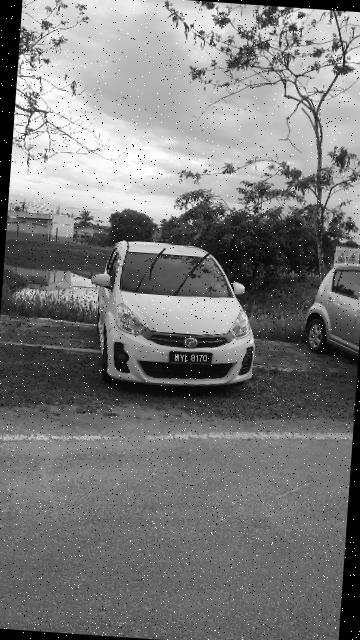License_Plate: (166, 351, 217, 367)
car: (82, 232, 267, 397)
